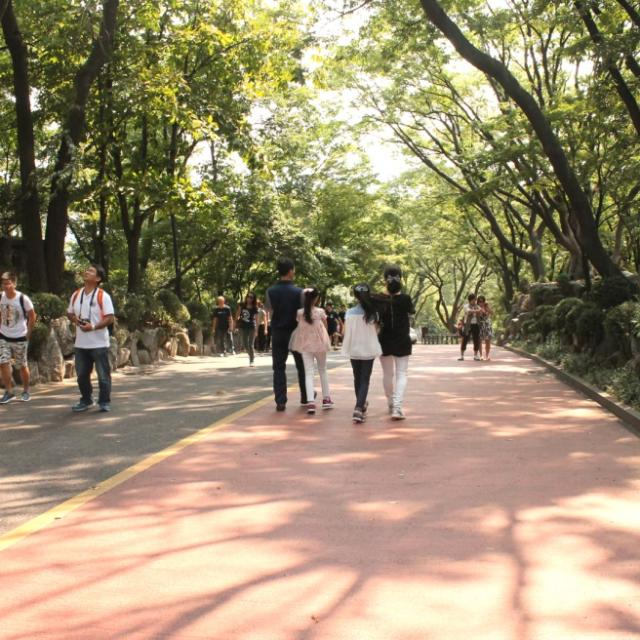body: (262, 255, 319, 412), (64, 262, 116, 414), (370, 262, 418, 422), (286, 283, 337, 415), (338, 280, 384, 422), (0, 270, 35, 406), (231, 289, 261, 368), (455, 292, 485, 361), (210, 295, 236, 358), (476, 294, 497, 362), (253, 299, 272, 358), (324, 302, 344, 351), (337, 302, 347, 327)
